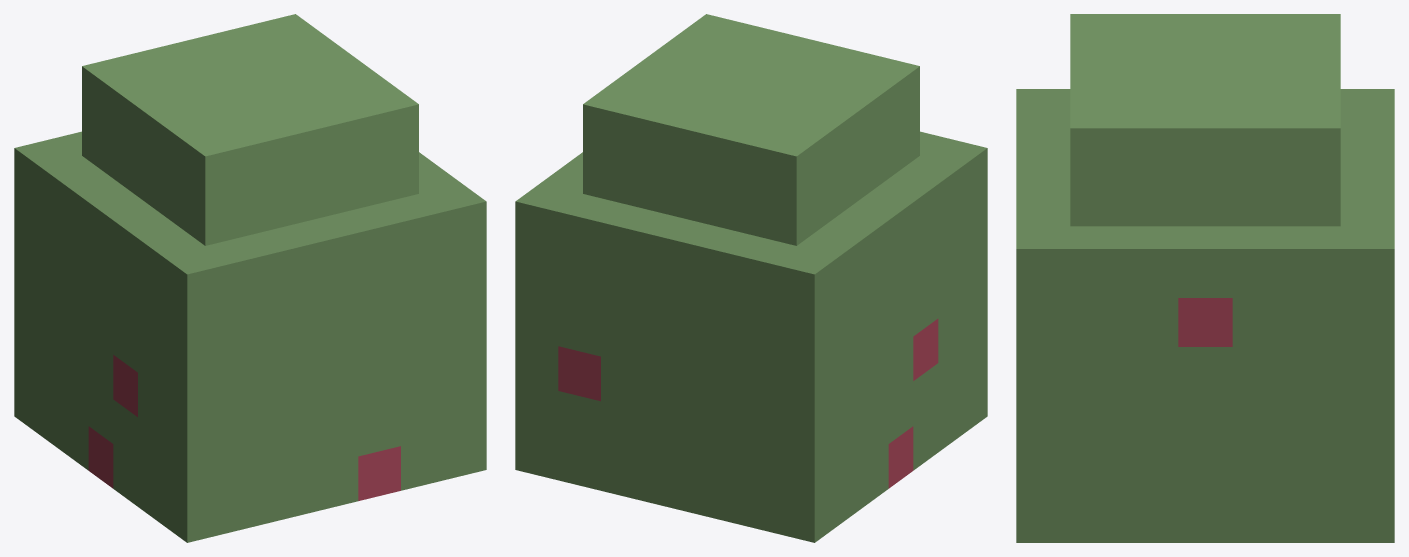
The model's file is arandano_rojo_03.glb.
3 views of the same model, side by side, from view 1: azimuth 30°, elevation 25°; view 2: azimuth 150°, elevation 25°; view 3: azimuth 270°, elevation 25° (orthographic). The views are drawn at different scales.
Parts seen in each view (by area): view 1: arandano_rojo_03; view 2: arandano_rojo_03; view 3: arandano_rojo_03.
Boxes of the visible parts, x1,y1,x2,y2 form: arandano_rojo_03: (14,14,486,542); arandano_rojo_03: (515,14,987,542); arandano_rojo_03: (1016,14,1394,542).
Size of the model in its own units: 0.7 by 0.8 by 0.7.
